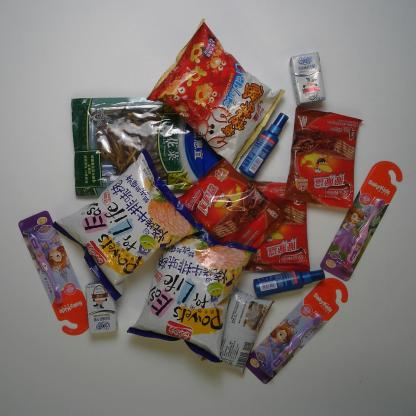Dessert: (176, 156, 288, 250), (284, 104, 364, 209), (243, 180, 311, 272)
Dried Food: (70, 95, 224, 198)
Milk: (288, 51, 326, 107), (85, 280, 120, 336)
Personal Hygiene: (245, 276, 349, 385), (319, 160, 403, 282), (17, 210, 90, 336), (237, 111, 290, 180), (253, 268, 326, 299)
Puffed Food: (51, 148, 204, 302), (146, 17, 287, 170), (125, 229, 259, 364)
Seasoner: (201, 287, 275, 378)
